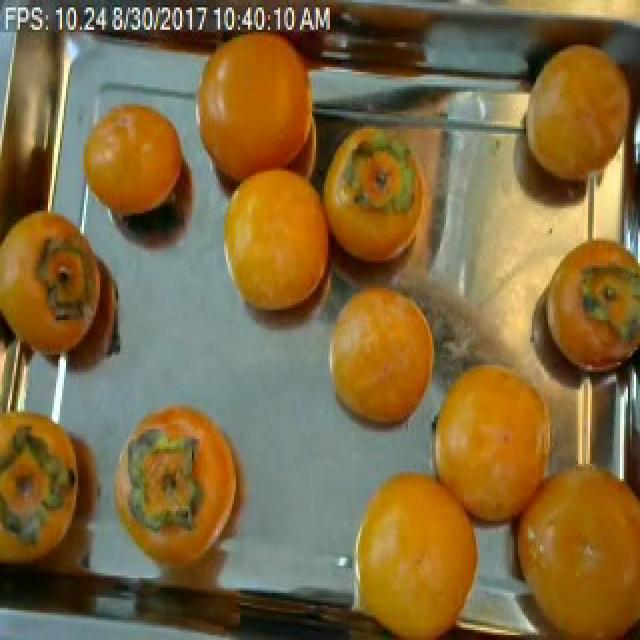Fruit: (332, 451, 500, 640), (206, 142, 342, 358), (110, 390, 266, 568), (190, 10, 318, 218), (314, 268, 444, 449), (510, 28, 636, 204), (530, 223, 640, 394), (76, 92, 188, 233)
